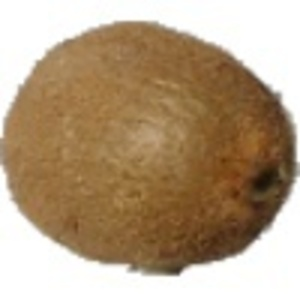kiwi: (1, 20, 300, 280)
